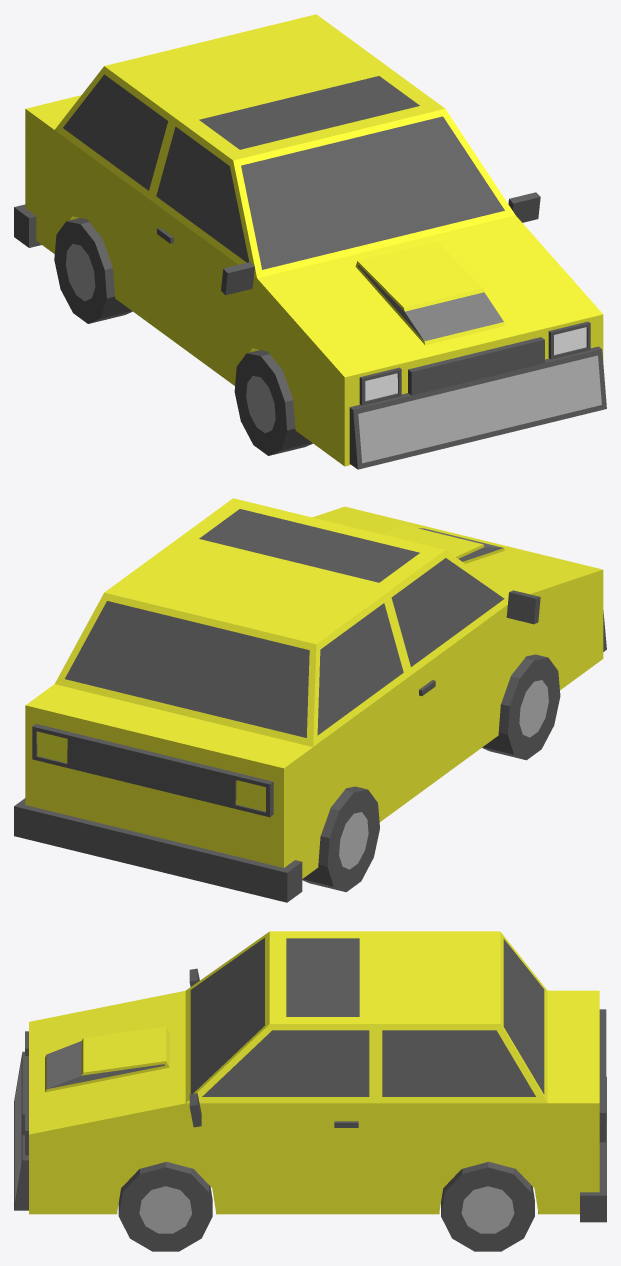
Rendered from SM_Car_09_02.FBX.
3 renders of one model, top to bottom at view 1: azimuth 30°, elevation 25°; view 2: azimuth 150°, elevation 25°; view 3: azimuth 270°, elevation 25°, orthographic. The views are drawn at different scales.
Visible parts, largest first — view 1: SM_Car_09_02, SM_Wheel_LFront002, SM_Wheel_RBack001; view 2: SM_Car_09_02, SM_Wheel_LFront002, SM_Wheel_RBack001; view 3: SM_Car_09_02, SM_Wheel_LFront001, SM_Wheel_LBack001.
Part boxes in pixels (box(x1,y1,x2,y2)): SM_Car_09_02: box(14, 14, 606, 469); SM_Wheel_LFront002: box(234, 350, 312, 455); SM_Wheel_RBack001: box(54, 218, 132, 323); SM_Car_09_02: box(14, 498, 606, 902); SM_Wheel_LFront002: box(482, 654, 560, 760); SM_Wheel_RBack001: box(302, 786, 379, 892); SM_Car_09_02: box(14, 931, 606, 1222); SM_Wheel_LFront001: box(118, 1161, 212, 1251); SM_Wheel_LBack001: box(441, 1161, 534, 1251).
Size of the model in its own units: 1.7 by 1.25 by 3.12.
Materials: 1 (1 with a texture image).
